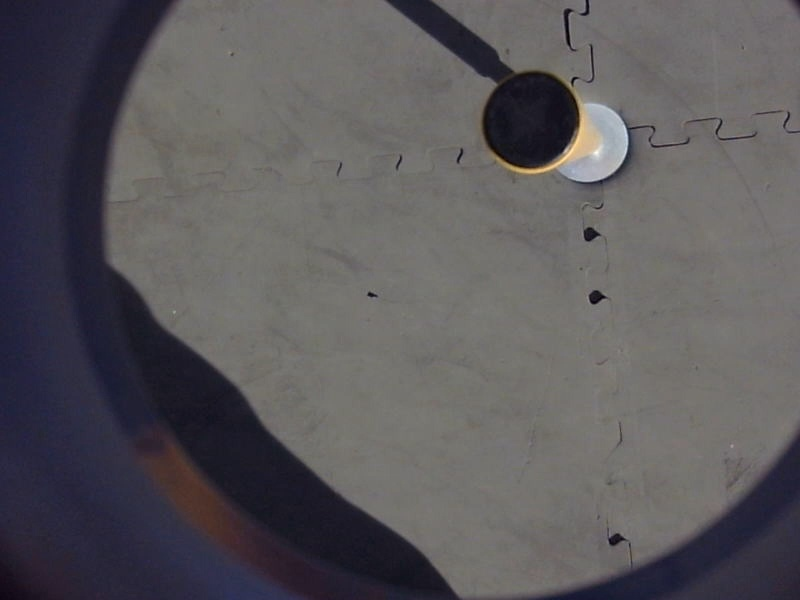tip: (473, 64, 589, 182)
